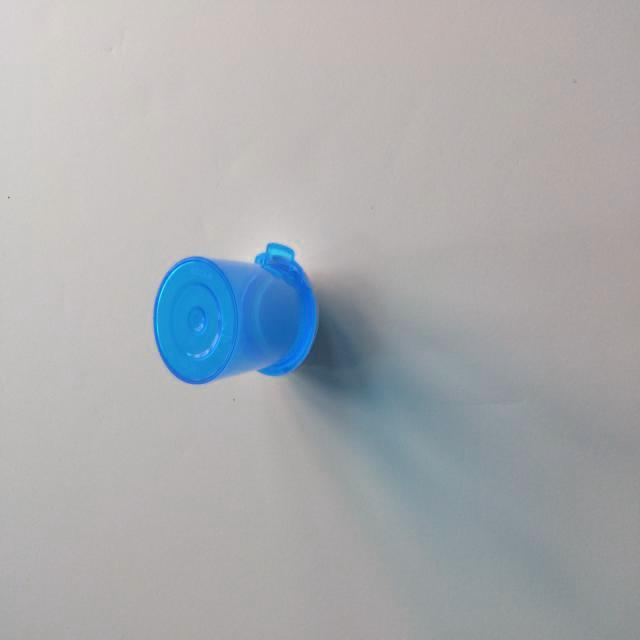plastic: (138, 217, 348, 451)
